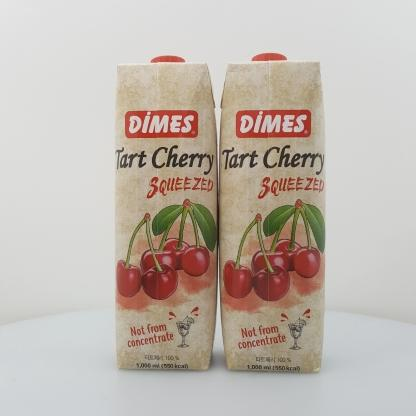DIMES--------1000ML: (218, 53, 326, 373), (114, 54, 218, 370)
